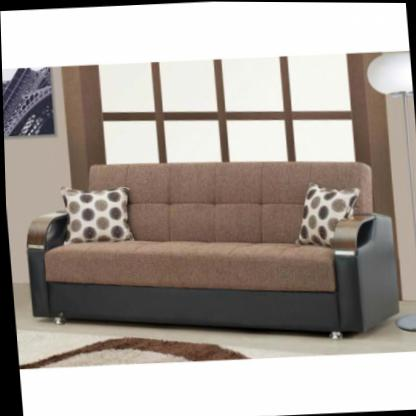Sofa: (17, 148, 399, 351)
